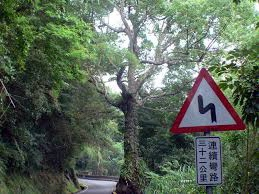Double_bend_left: (170, 67, 247, 134)
